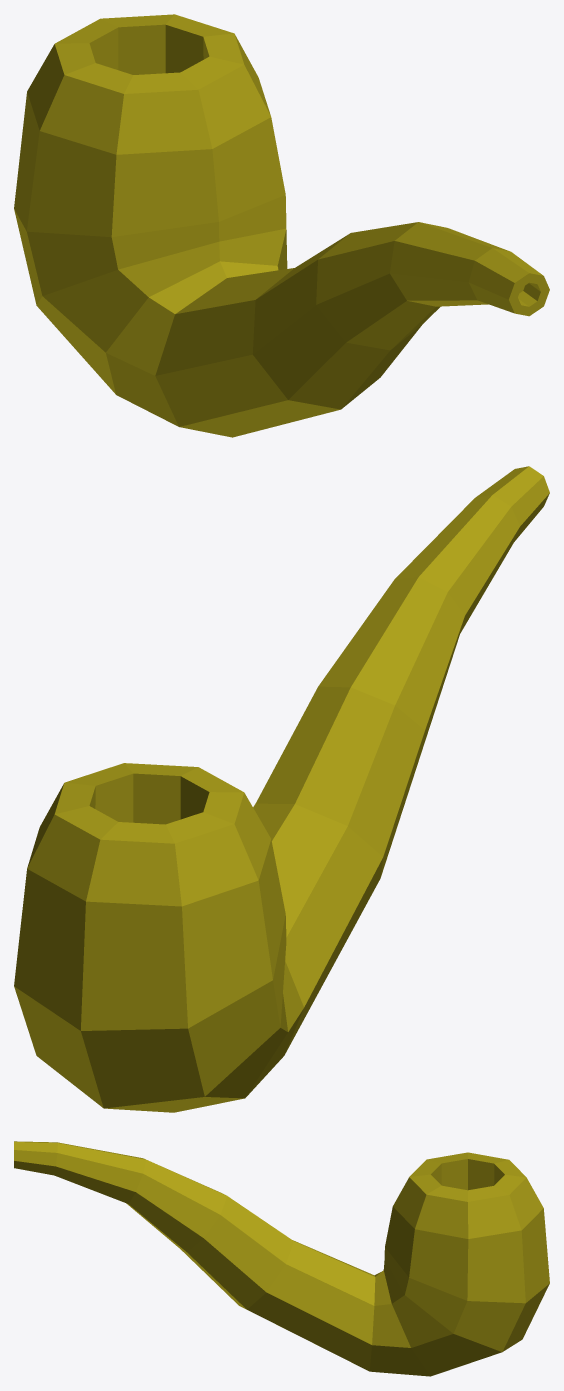
File: трубка.fbx
3 views of the same model, one above another, from view 1: azimuth 30°, elevation 25°; view 2: azimuth 150°, elevation 25°; view 3: azimuth 270°, elevation 25° (orthographic). The views are drawn at different scales.
Visible parts, largest first — view 1: ТРУБА; view 2: ТРУБА; view 3: ТРУБА.
Boxes of the visible parts, x1,y1,x2,y2 form: ТРУБА: (14, 14, 549, 437); ТРУБА: (14, 466, 549, 1112); ТРУБА: (14, 1141, 549, 1376).
Bounding box in the file's own units: 7.85 × 11.78 × 24.79.
